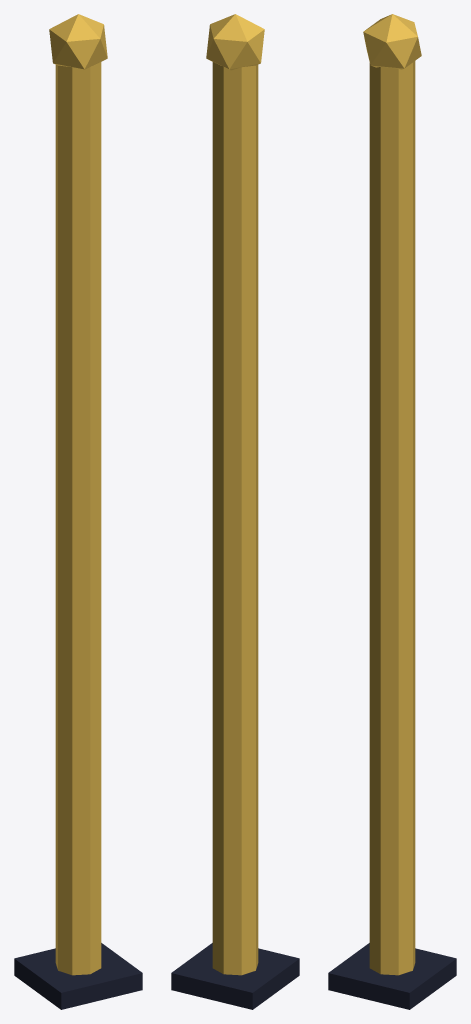
The model's file is sm_env_depot_railing_post.glb.
The picture shows the model from 3 angles, left to right: view 1: azimuth 30°, elevation 25°; view 2: azimuth 150°, elevation 25°; view 3: azimuth 330°, elevation 25°; orthographic projection.
Parts seen in each view (by area): view 1: Post, PostFoot, PostCap; view 2: Post, PostFoot, PostCap; view 3: Post, PostFoot, PostCap.
Part boxes in pixels (x1=…): Post: x1=55, y1=62, x2=101, y2=975; PostFoot: x1=14, y1=943, x2=142, y2=1009; PostCap: x1=49, y1=14, x2=107, y2=70; Post: x1=212, y1=62, x2=258, y2=975; PostFoot: x1=171, y1=943, x2=299, y2=1009; PostCap: x1=206, y1=14, x2=264, y2=70; Post: x1=369, y1=61, x2=415, y2=975; PostFoot: x1=328, y1=943, x2=456, y2=1009; PostCap: x1=363, y1=14, x2=421, y2=69.
Size of the model in its own units: 0.1 by 1.14 by 0.1.
